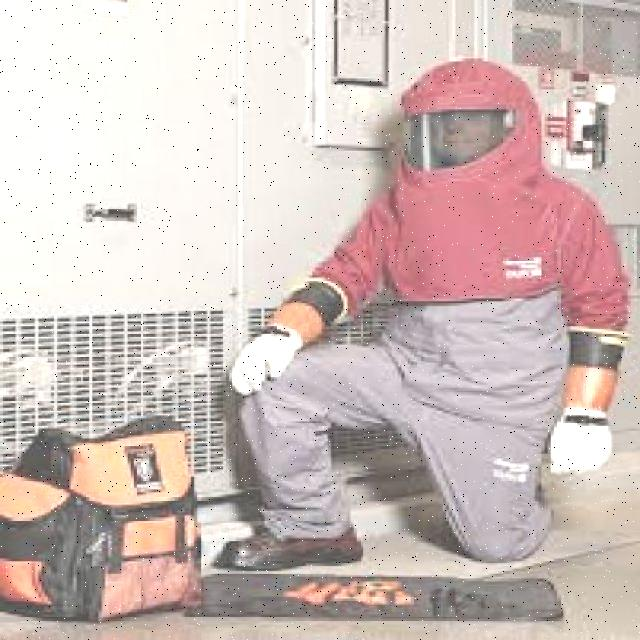Gloves: (540, 332, 629, 479), (232, 300, 300, 398)
